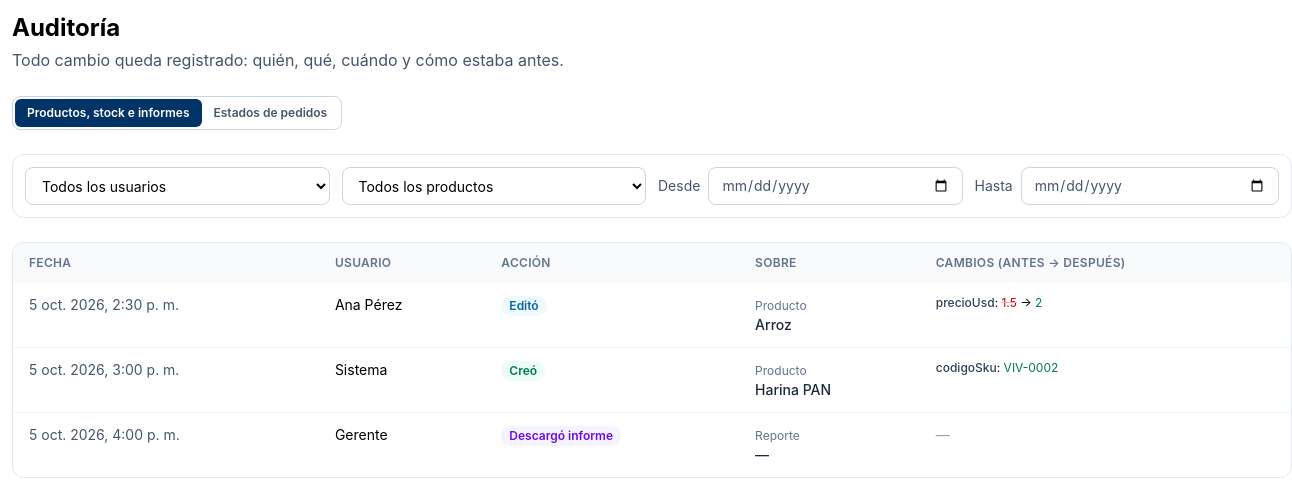
Auditoria: estados de pedidos › cambia a la vista de pedidos sin el filtro de producto
Expected: the table is shown, [13,243,1291,477]
Click the button "Estados de pedidos".
click(270, 113)  # box [202,99,339,127]
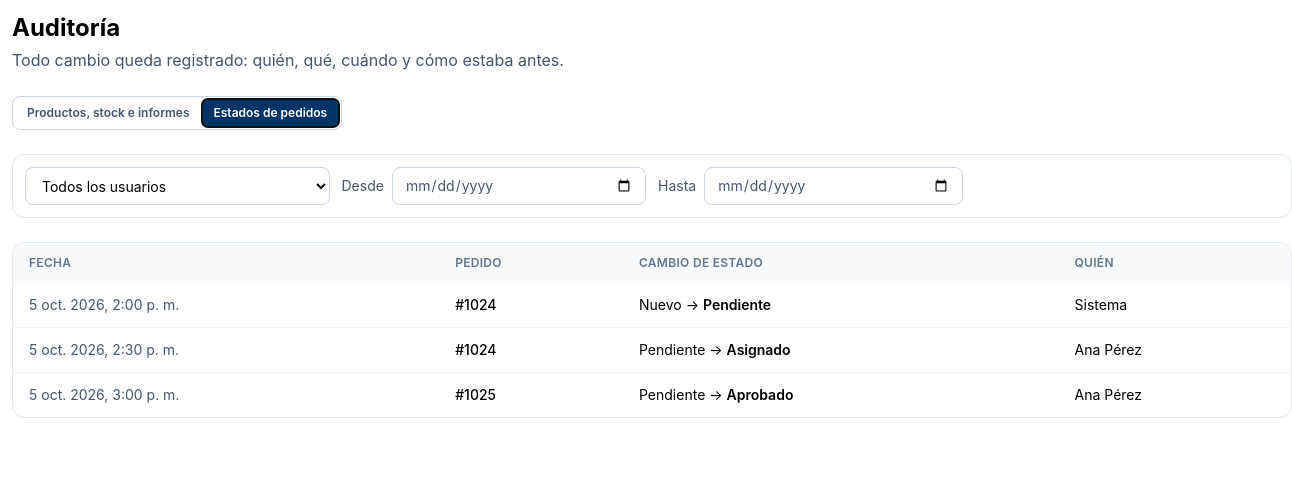
Expected: the text "#1025" is shown, [439,372,623,417]
